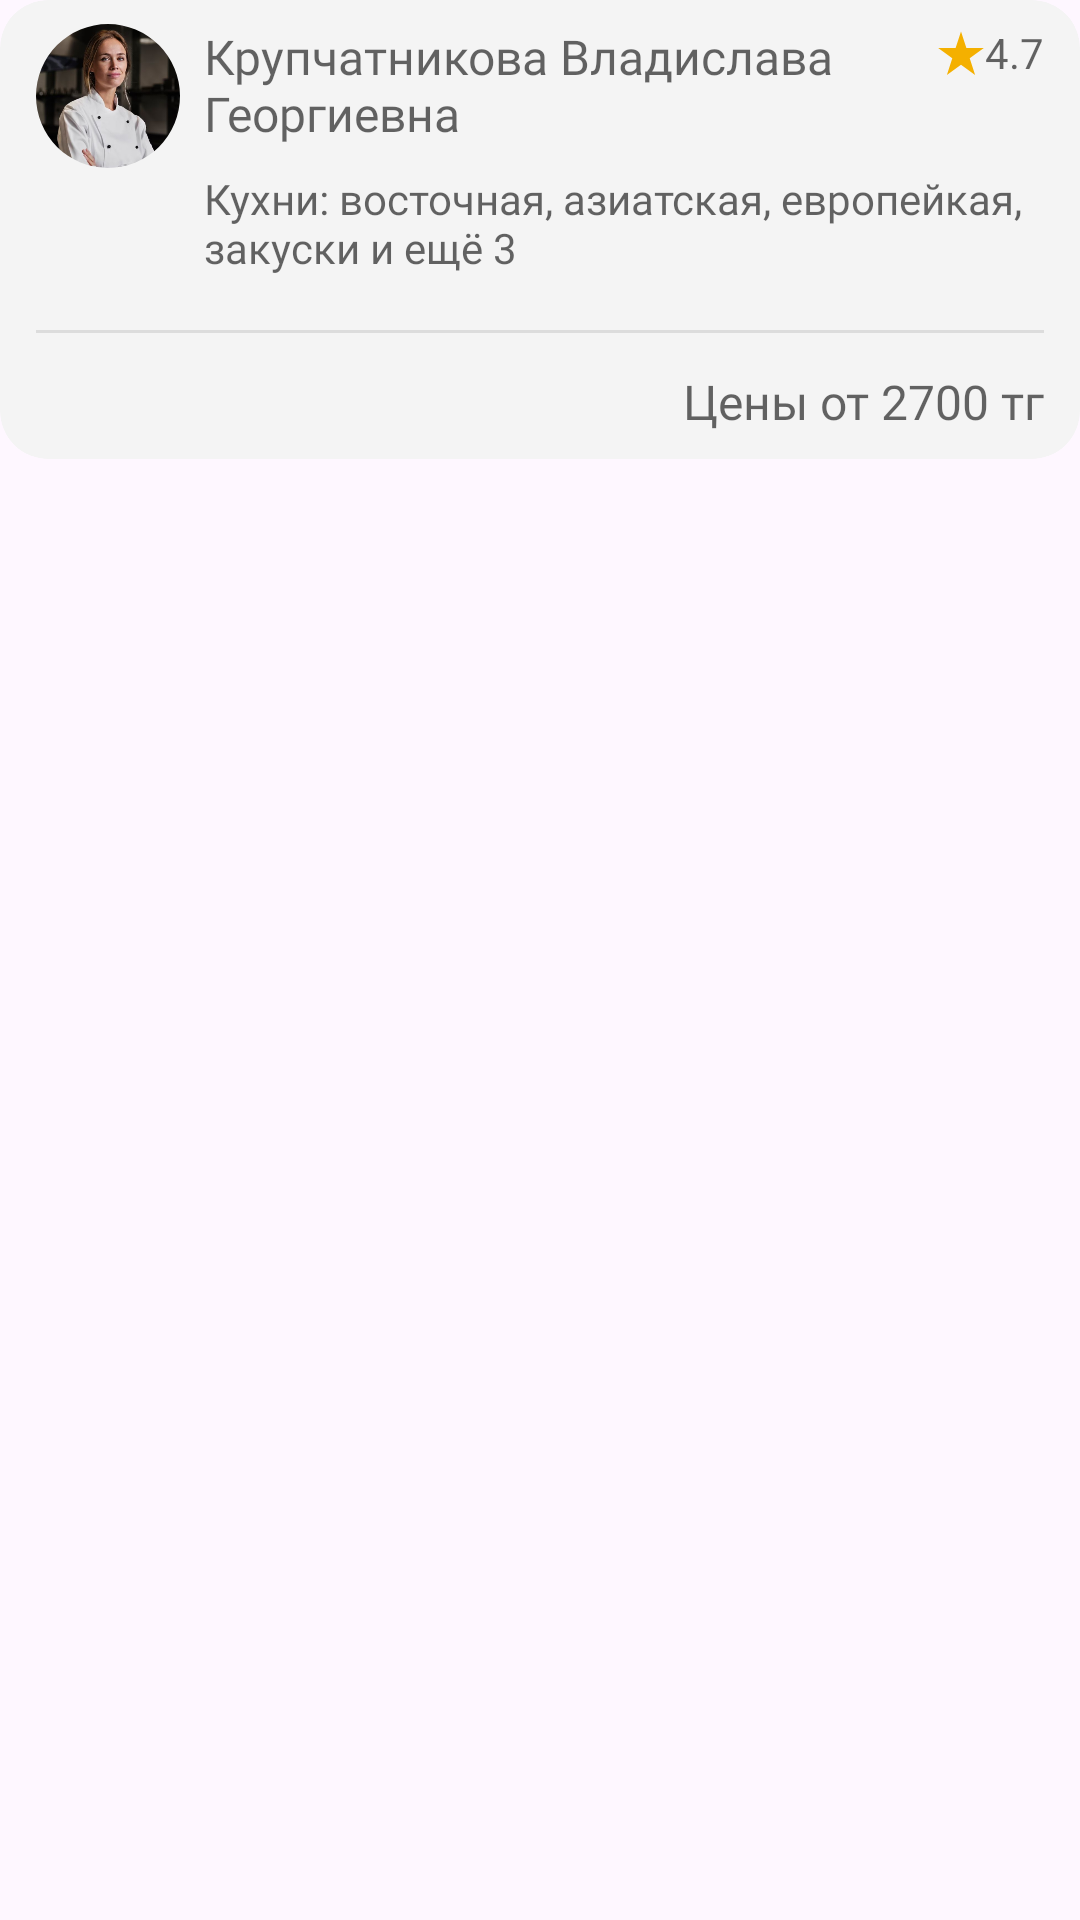

Icon click points for this 1080×1920 phone screenshot, format (x,y):
cook: (108,96)
star: (961,53)
